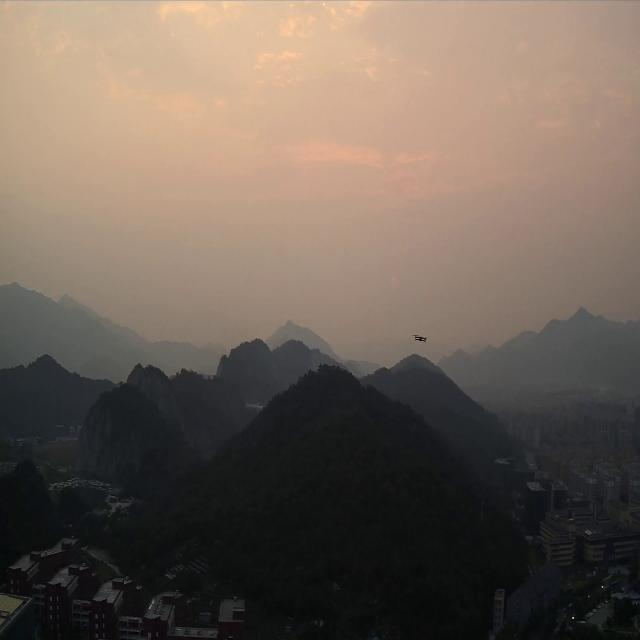drone: (412, 335, 426, 342)
